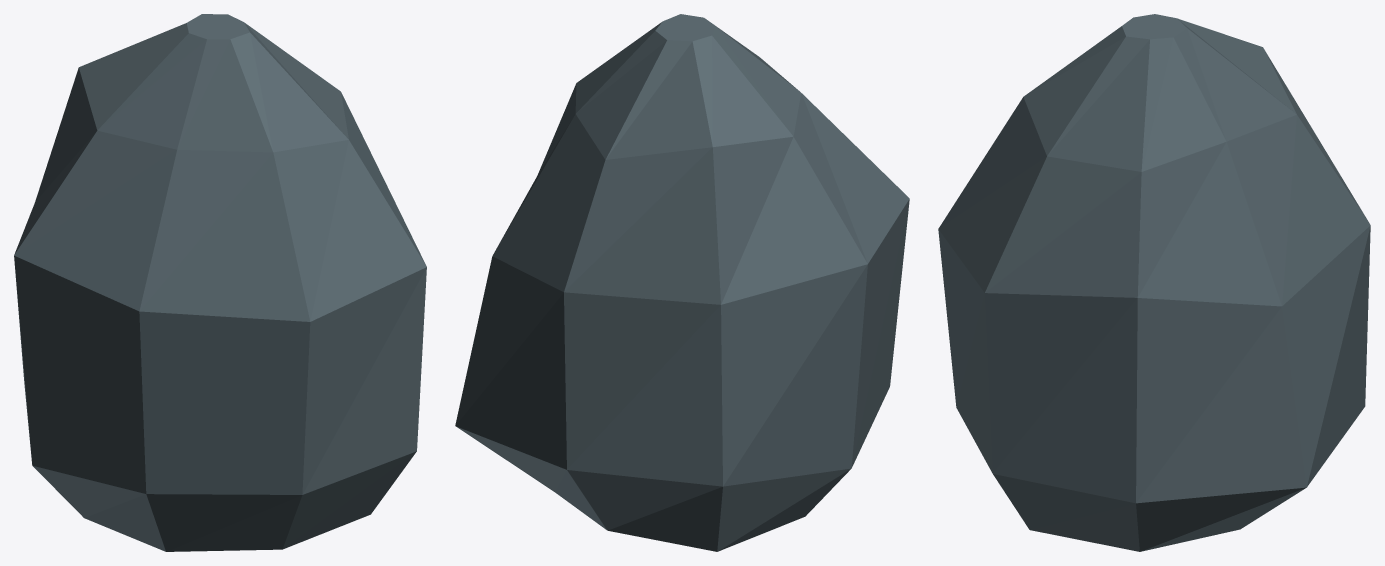
The model's file is rock_b.glb.
The picture shows the model from 3 angles, left to right: view 1: azimuth 30°, elevation 25°; view 2: azimuth 150°, elevation 25°; view 3: azimuth 270°, elevation 25°; orthographic projection. The views are drawn at different scales.
Parts seen in each view (by area): view 1: rock_b; view 2: rock_b; view 3: rock_b.
Boxes of the visible parts, x1,y1,x2,y2 form: rock_b: (14, 14, 426, 551); rock_b: (455, 14, 909, 551); rock_b: (938, 14, 1370, 551).
Size of the model in its own units: 0.8431 by 1 by 0.8541.
